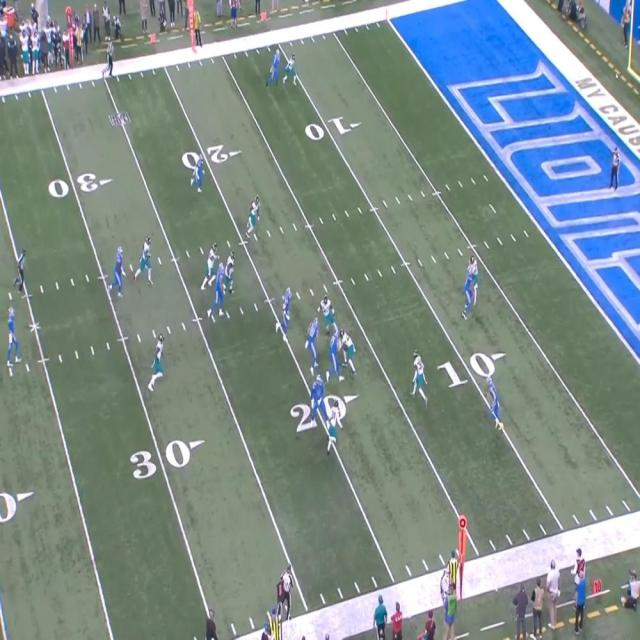db: (414, 353, 428, 398), (330, 399, 340, 450), (469, 255, 479, 301), (491, 384, 502, 425), (248, 196, 258, 237)
lb: (341, 328, 357, 371), (320, 293, 336, 334)
qb: (8, 303, 18, 361)
skill: (462, 267, 472, 319), (268, 48, 282, 84), (192, 154, 204, 192), (308, 319, 318, 364), (288, 54, 300, 82)
